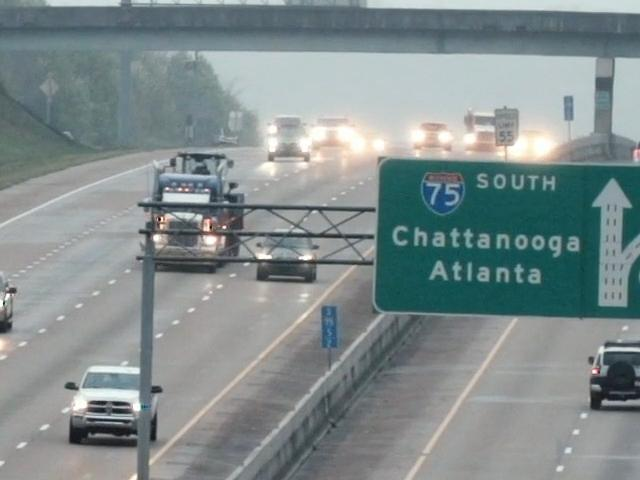car: (57, 362, 165, 450), (253, 220, 323, 290), (581, 334, 640, 416), (264, 120, 311, 166), (410, 119, 454, 156), (0, 268, 19, 335)
truck: (148, 148, 243, 270)
